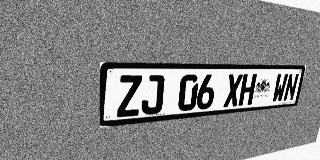0: (177, 74, 199, 112)
6: (196, 74, 217, 110)
H: (238, 74, 257, 106)
J: (141, 75, 165, 115)
N: (283, 73, 299, 102)
W: (271, 73, 288, 103)
X: (223, 74, 243, 107)
Z: (117, 75, 142, 117)
